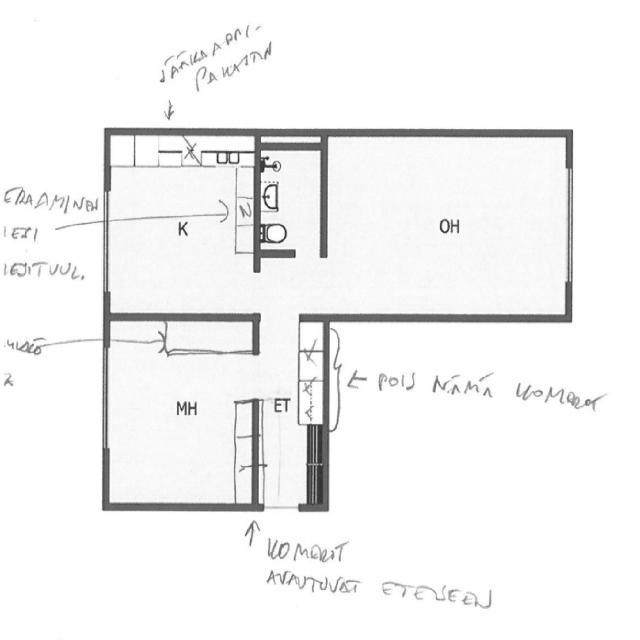window: (558, 163, 580, 290), (96, 183, 115, 300), (98, 344, 114, 456)
zone: (327, 135, 567, 319), (104, 318, 257, 508), (105, 132, 257, 318), (258, 142, 324, 255)
